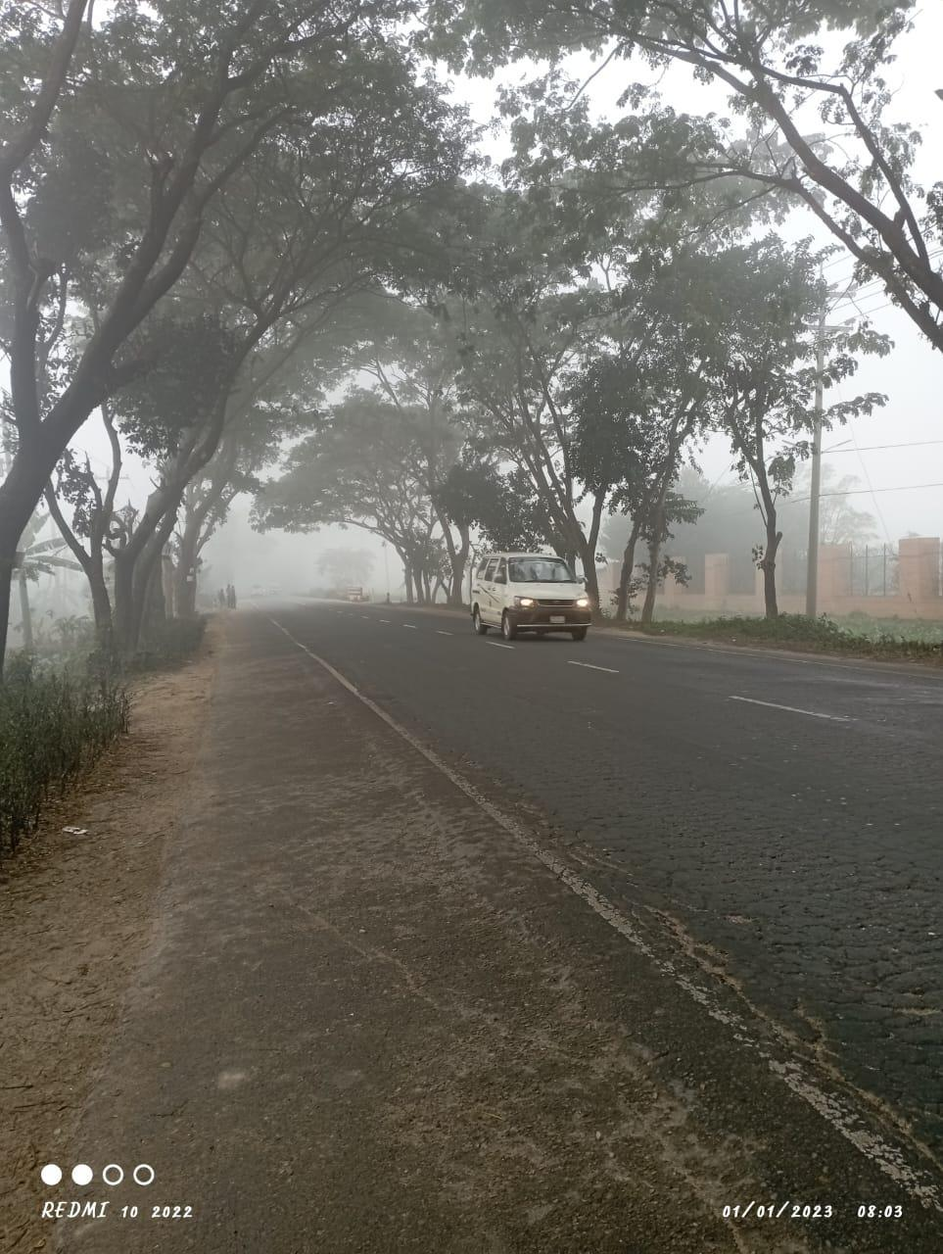Car: (459, 533, 605, 655)
